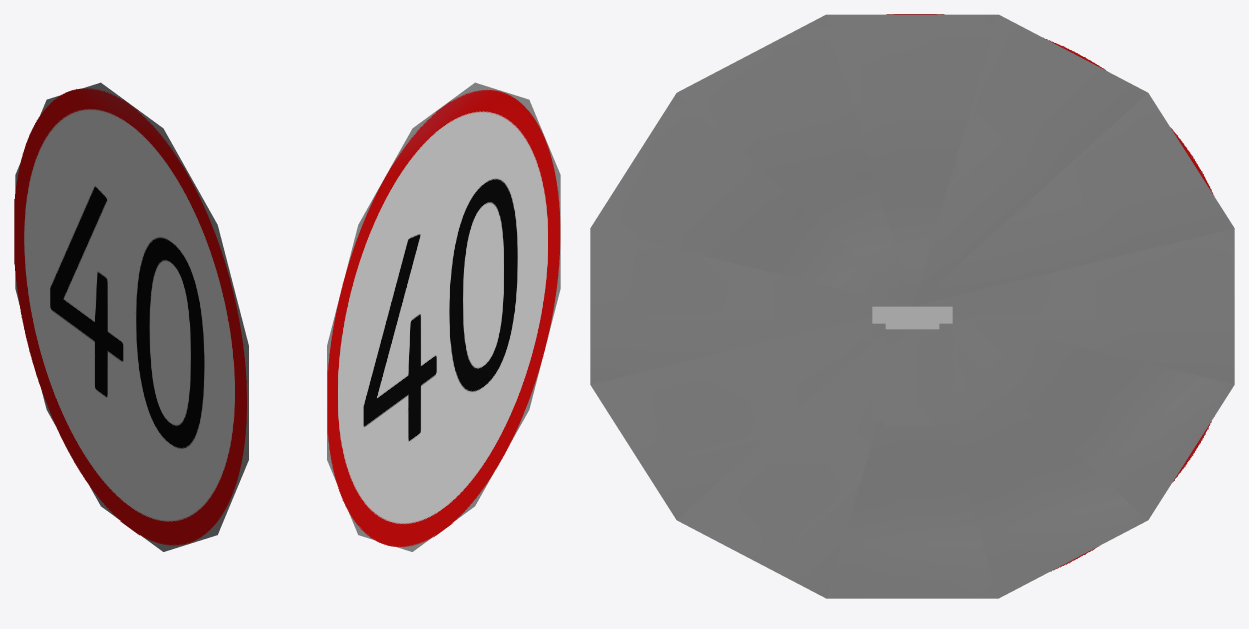
The model's file is speed_40_medium.obj.
The picture shows the model from 3 angles, left to right: view 1: azimuth 30°, elevation 25°; view 2: azimuth 150°, elevation 25°; view 3: azimuth 270°, elevation 25°; orthographic projection. The views are drawn at different scales.
Parts seen in each view (by area): view 1: cube, circle; view 2: cube, circle; view 3: circle, cube.
Part boxes in pixels (x1,y1,x2,y2): cube: [14, 88, 246, 545]; circle: [15, 82, 248, 551]; cube: [327, 89, 560, 547]; circle: [327, 82, 560, 551]; circle: [590, 14, 1234, 598]; cube: [872, 14, 1214, 571].
Bounding box in the file's own units: 0.0641 × 0.75 × 0.75.
2 materials, 2 textured.
